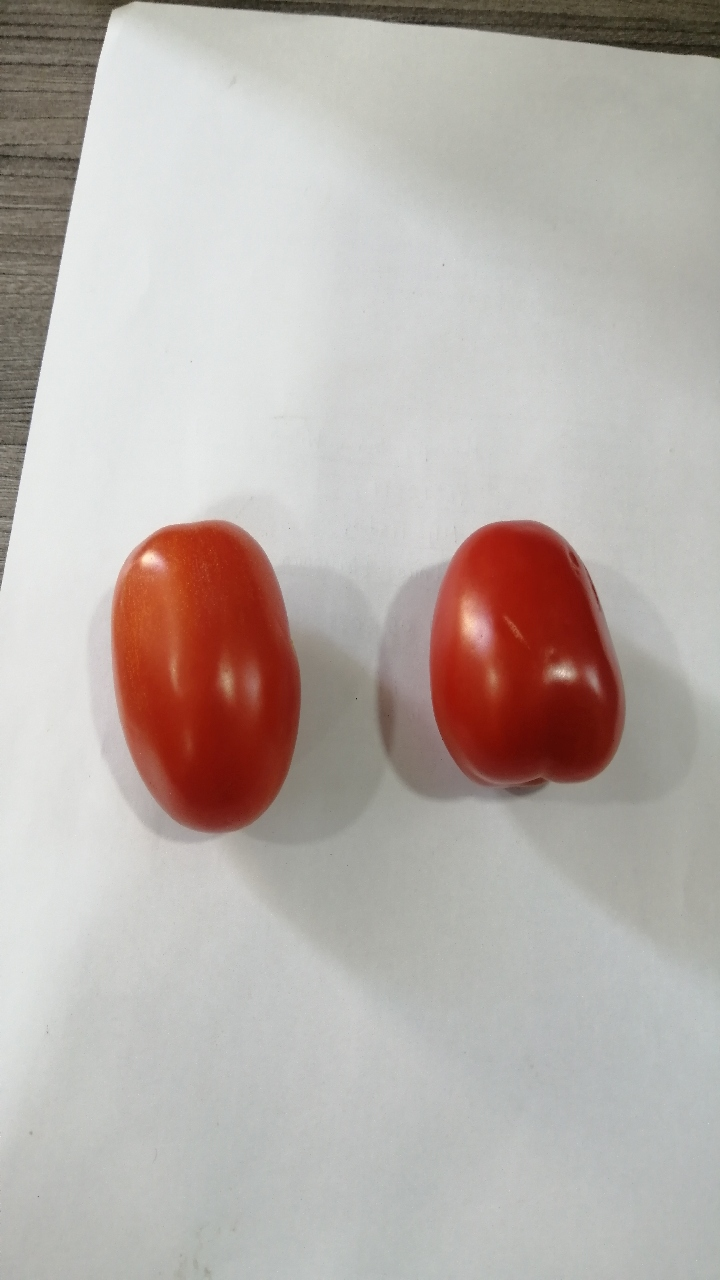tomateRojo: (89, 514, 320, 857), (408, 502, 649, 823)
